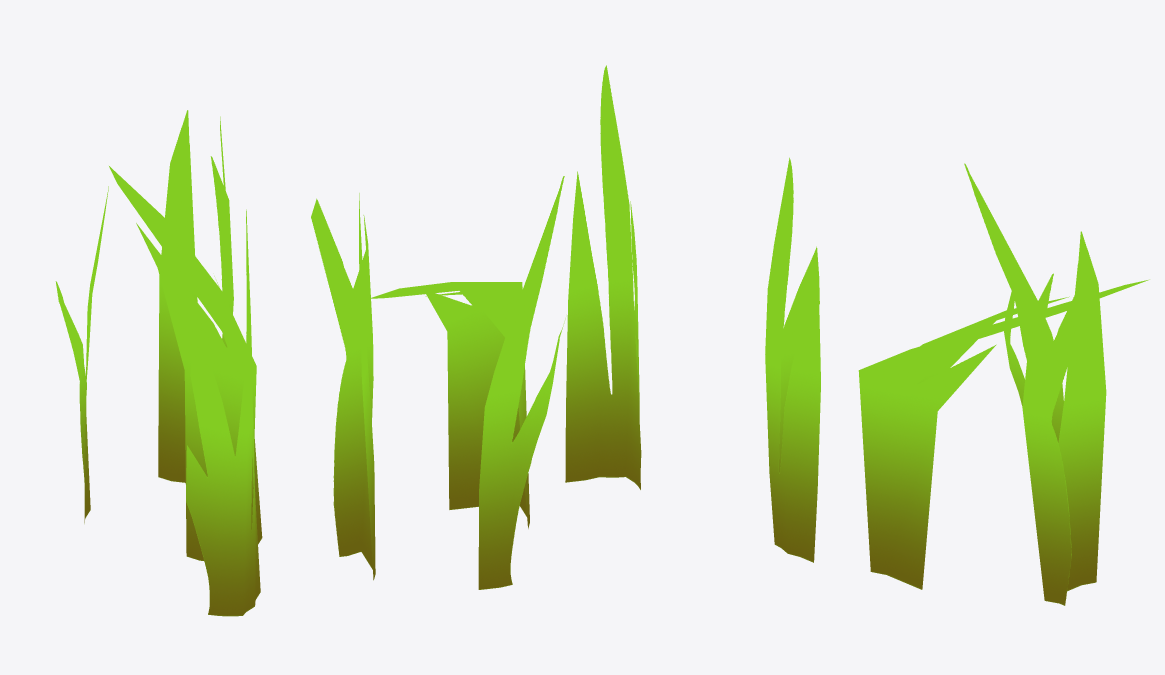
The model's file is Grass_01.fbx.
The picture shows the model from 3 angles, left to right: view 1: azimuth 30°, elevation 25°; view 2: azimuth 150°, elevation 25°; view 3: azimuth 270°, elevation 25°; orthographic projection. The views are drawn at different scales.
Visible parts, largest first — view 1: Grass_blade6; view 2: Grass_blade6; view 3: Grass_blade6.
Boxes of the visible parts, x1,y1,x2,y2 form: Grass_blade6: (55,110,262,616); Grass_blade6: (311,65,641,589); Grass_blade6: (765,157,1149,605).
Size of the model in its own units: 5.66 by 10.48 by 7.
1 material, 1 textured.
